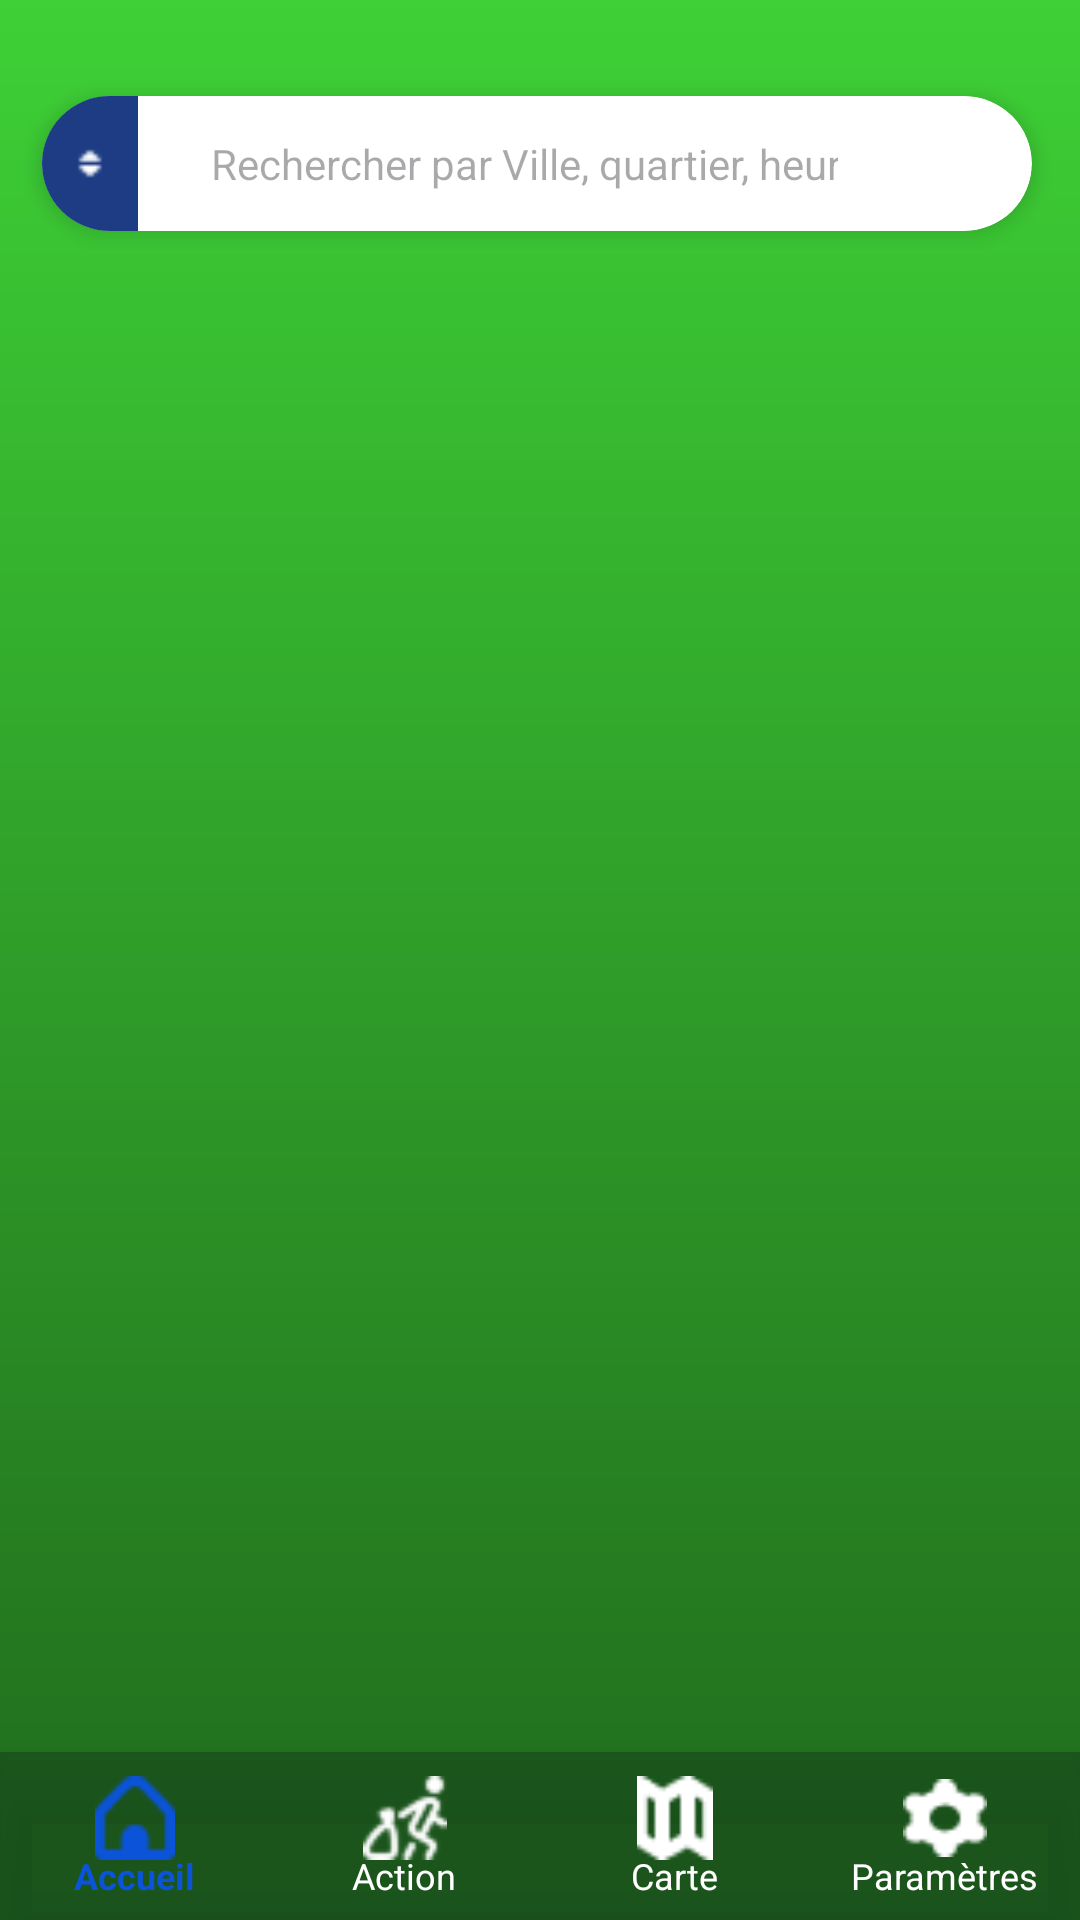

Where to tap for icons on this 1080*1920 app screen, as (x=x, y=y):
sort: (x=90, y=163)
